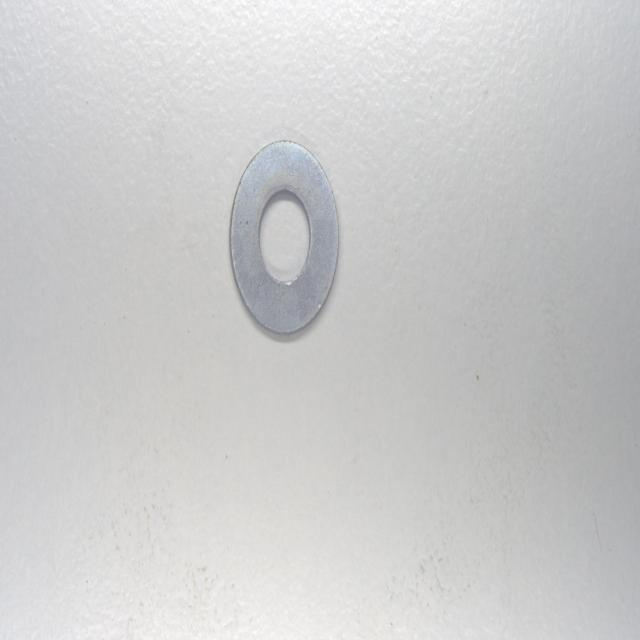washer: (227, 141, 344, 343)
